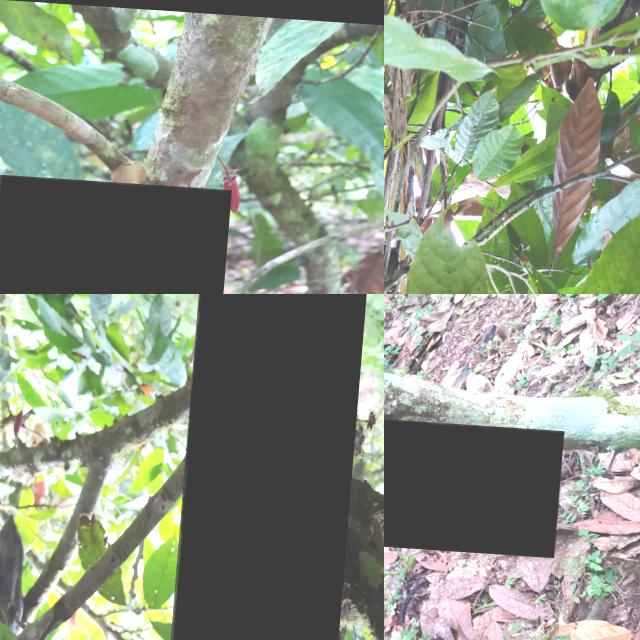Fitoftora: (171, 294, 376, 640)
Sana: (0, 172, 234, 294), (384, 405, 568, 551)
